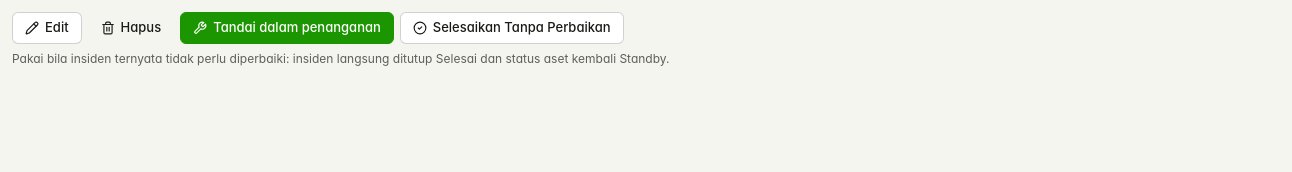
Scenario: hapus insiden › gagal: insiden dari ganti unit — tombol ada, tapi diklik langsung ditolak tanpa ke server
The width and height of the screenshot is (1292, 172).
Click the button "Hapus" at (131, 28), box x1=88 y1=12 x2=174 y2=44
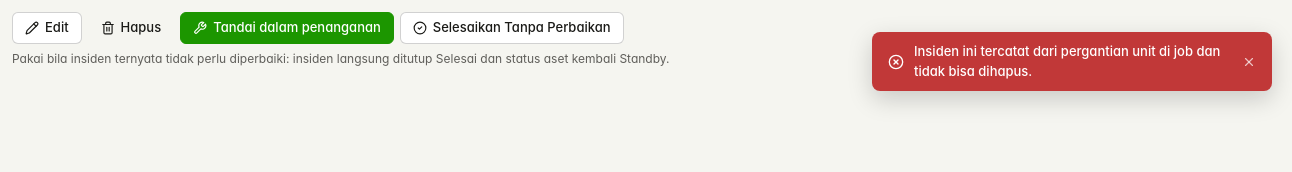
Check: the text "Insiden ini tercatat dari pergantian unit di job dan tidak bisa dihapus." is shown, box x1=914 y1=42 x2=1232 y2=81
